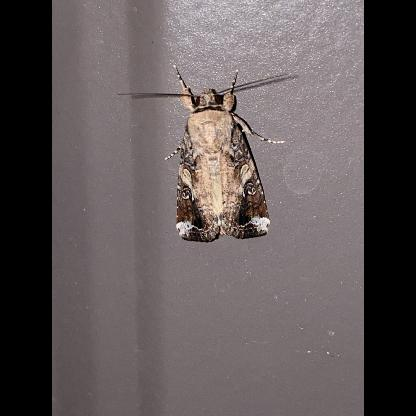Fall Armyworm Moth: (115, 62, 292, 244)
